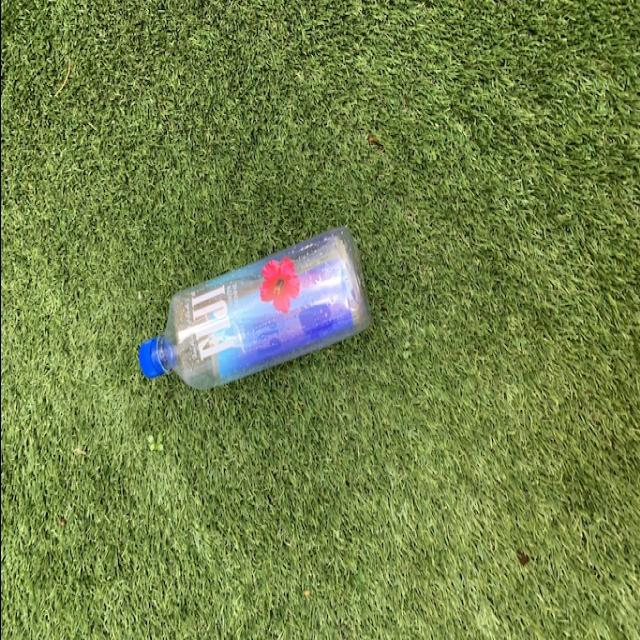litter: (129, 222, 373, 418)
